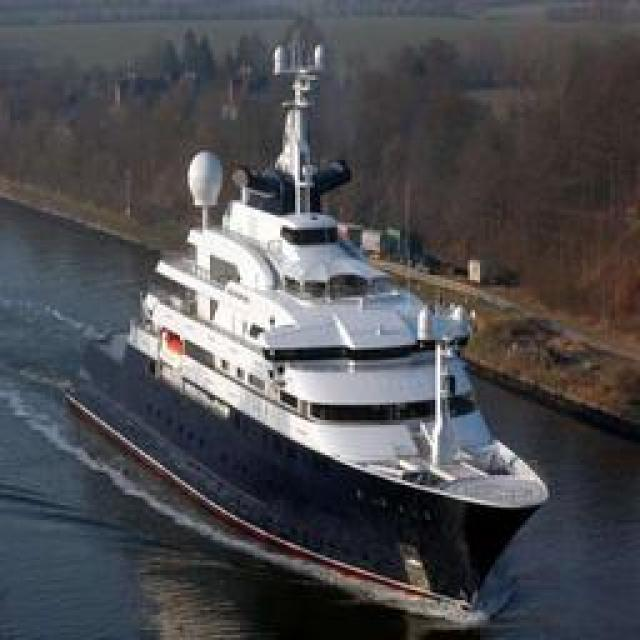ship2: (61, 71, 549, 639)
